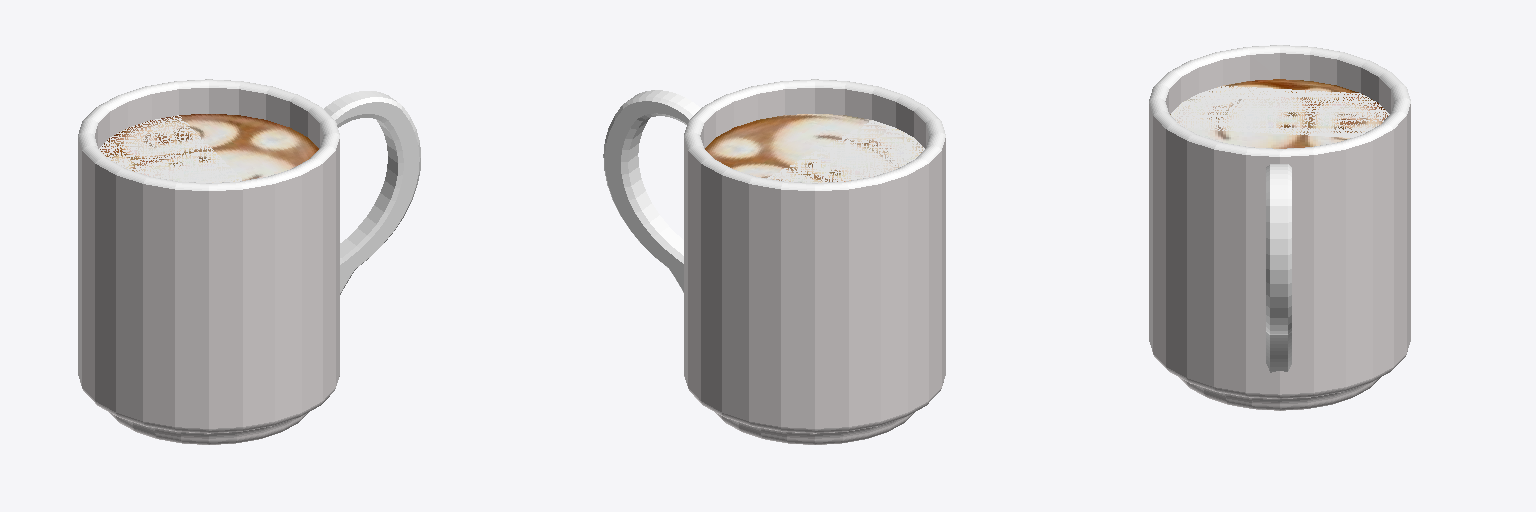
The picture shows the model from 3 angles: view 1: azimuth 30°, elevation 25°; view 2: azimuth 150°, elevation 25°; view 3: azimuth 270°, elevation 25°; orthographic projection.
Parts seen in each view (by area): view 1: mesh1-geometry-1, mesh1-geometry-0, mesh1-geometry-2, mesh2-geometry-0; view 2: mesh1-geometry-1, mesh1-geometry-0, mesh1-geometry-2, mesh2-geometry-0; view 3: mesh1-geometry-1, mesh1-geometry-0, mesh2-geometry-0, mesh1-geometry-2.
Boxes of the visible parts, x1=… form: mesh1-geometry-1: x1=78, y1=88, x2=339, y2=444; mesh1-geometry-0: x1=78, y1=79, x2=339, y2=190; mesh1-geometry-2: x1=100, y1=114, x2=318, y2=182; mesh2-geometry-0: x1=324, y1=91, x2=420, y2=294; mesh1-geometry-1: x1=684, y1=88, x2=945, y2=444; mesh1-geometry-0: x1=684, y1=79, x2=945, y2=190; mesh1-geometry-2: x1=705, y1=114, x2=922, y2=182; mesh2-geometry-0: x1=603, y1=90, x2=700, y2=292; mesh1-geometry-1: x1=1149, y1=53, x2=1410, y2=410; mesh1-geometry-0: x1=1149, y1=45, x2=1410, y2=156; mesh2-geometry-0: x1=1266, y1=164, x2=1291, y2=372; mesh1-geometry-2: x1=1170, y1=79, x2=1387, y2=148.
Bounding box in the file's own units: 0.6816 × 0.5502 × 0.4825.
Materials: 3 (1 with a texture image).